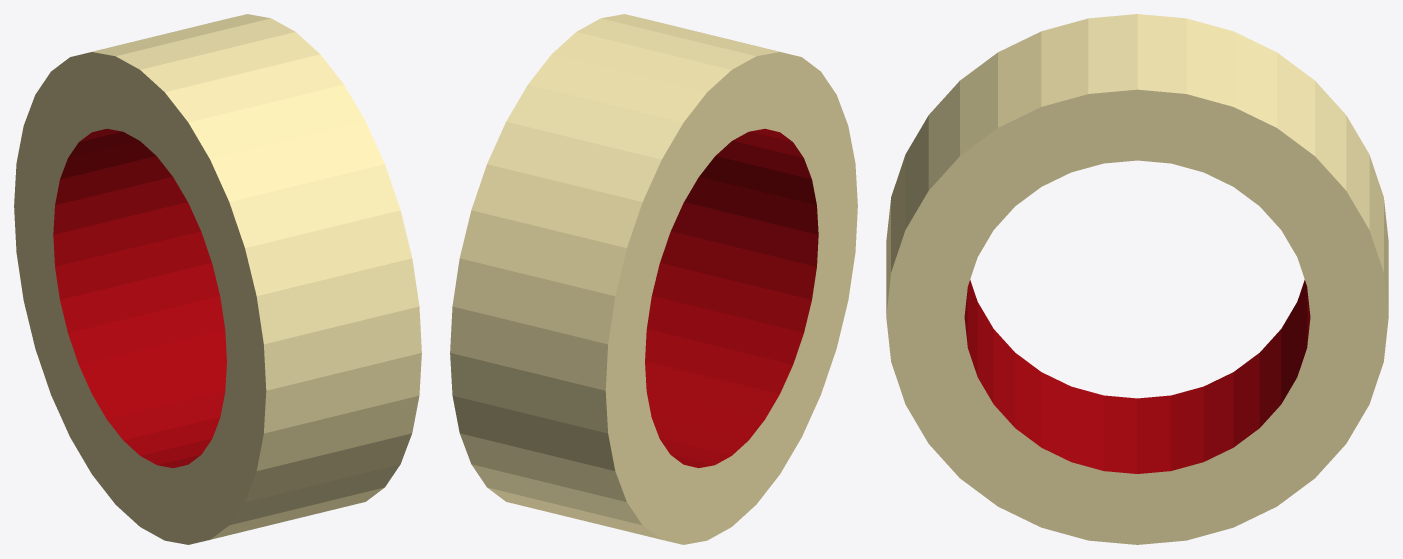
The model's file is Cinta_roja.fbx.
The picture shows the model from 3 angles, left to right: view 1: azimuth 30°, elevation 25°; view 2: azimuth 150°, elevation 25°; view 3: azimuth 270°, elevation 25°; orthographic projection.
Parts seen in each view (by area): view 1: Cinta; view 2: Cinta; view 3: Cinta.
Boxes of the visible parts, bbox=[...] form: Cinta: bbox=[14, 14, 421, 544]; Cinta: bbox=[450, 14, 857, 544]; Cinta: bbox=[886, 14, 1388, 544].
Bounding box in the file's own units: 150 × 421 × 421.
